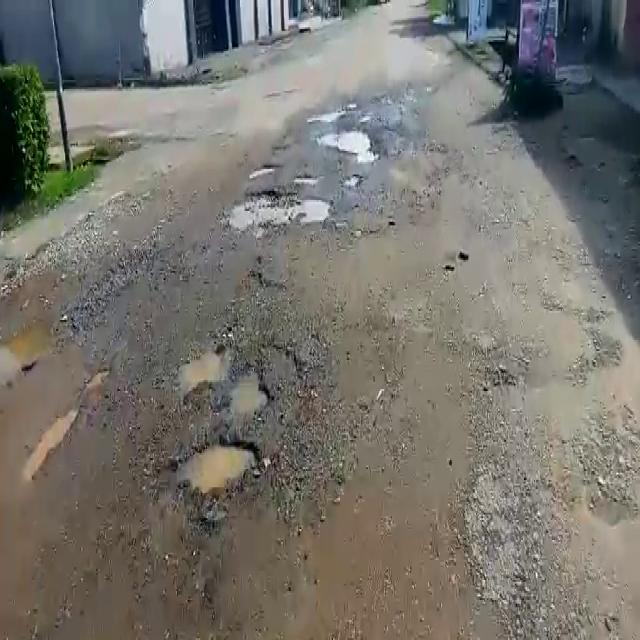Pothole: (180, 342, 270, 421), (216, 188, 334, 234), (176, 437, 264, 496), (318, 124, 380, 157), (249, 163, 279, 178), (293, 177, 323, 189)
